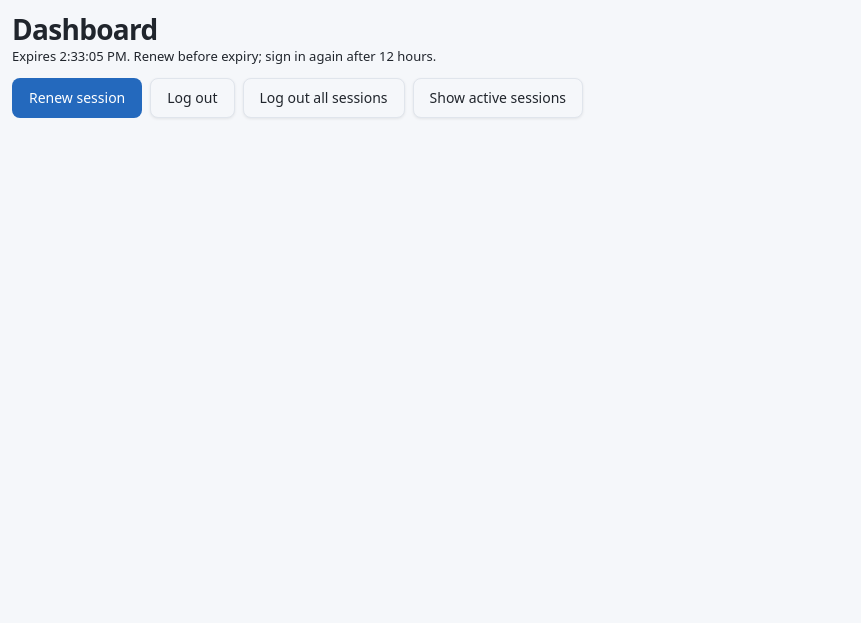
Test: logs out all sessions and returns to isolated login
The image size is (861, 623).
Click the button "Log out all sessions".
click(324, 98)  # box [242,78,404,118]
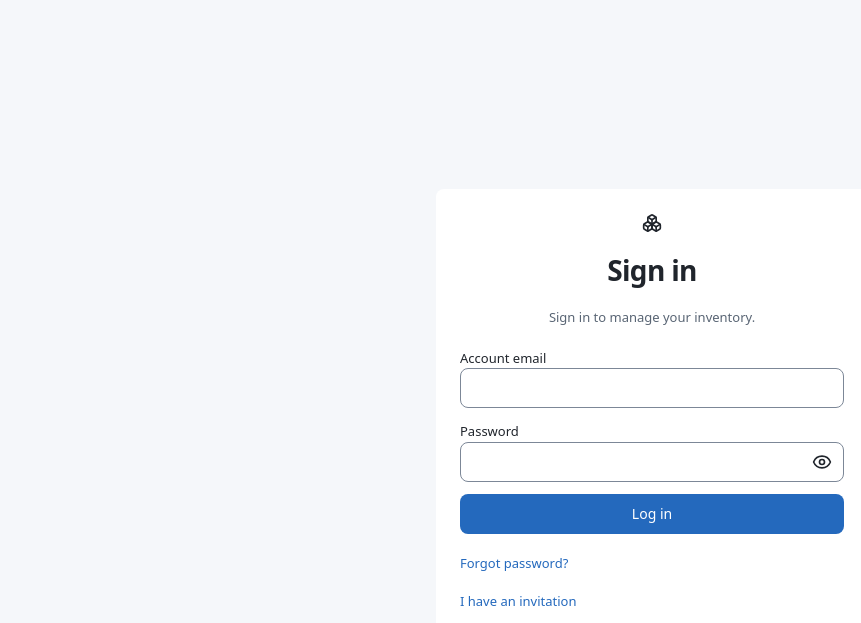
Check: the button "Log in" is shown, box [460,494,844,534]
